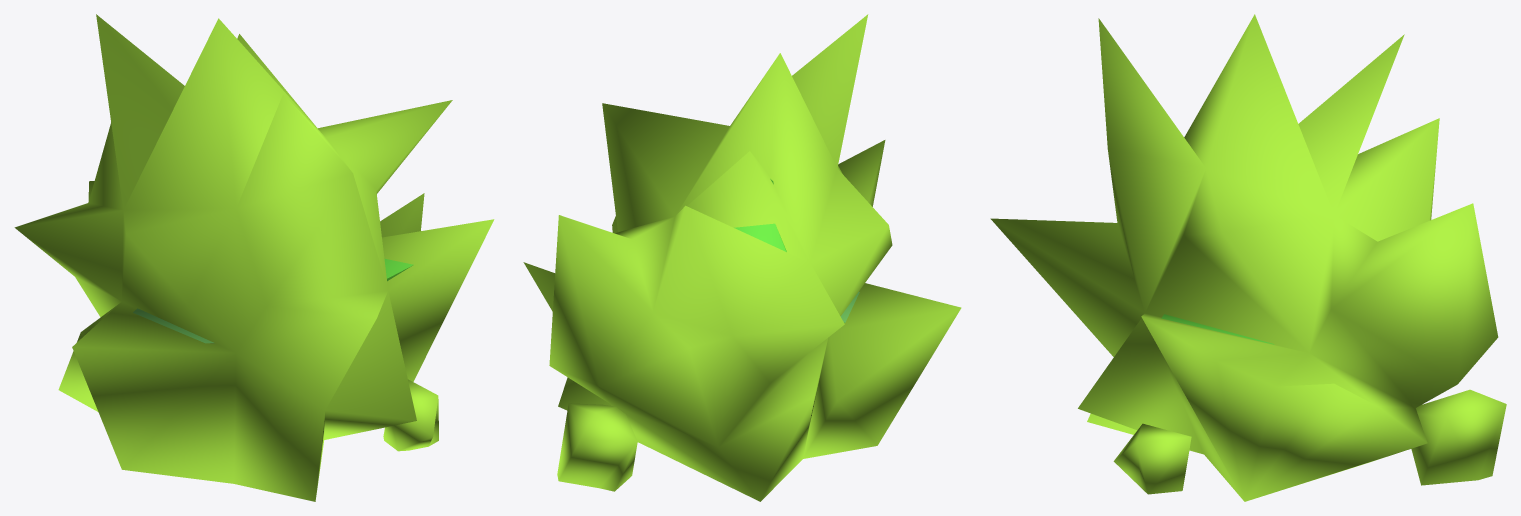
The model's file is UraniumTier3.glb.
The picture shows the model from 3 angles, left to right: view 1: azimuth 30°, elevation 25°; view 2: azimuth 150°, elevation 25°; view 3: azimuth 270°, elevation 25°; orthographic projection. The views are drawn at different scales.
Visible parts, largest first — view 1: UraniumTier3; view 2: UraniumTier3; view 3: UraniumTier3.
Part boxes in pixels (x1,y1,x2,y2): UraniumTier3: (14,14,494,501); UraniumTier3: (523,14,961,501); UraniumTier3: (990,14,1506,501).
Bounding box in the file's own units: 2.4 × 2.29 × 2.66.
1 material, 1 textured.
